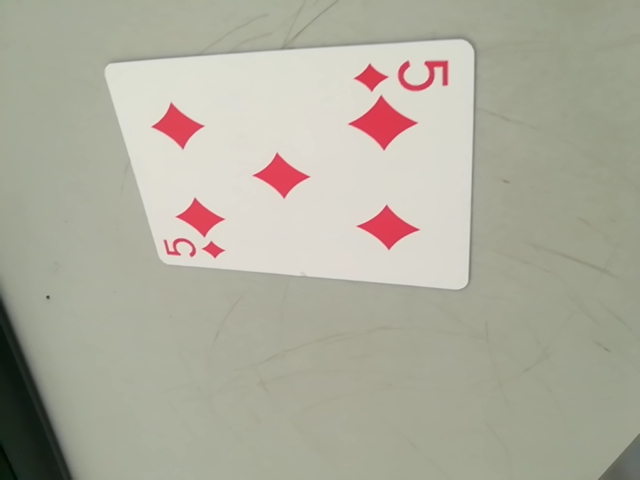fk 5: (354, 52, 454, 97), (162, 231, 227, 263)
